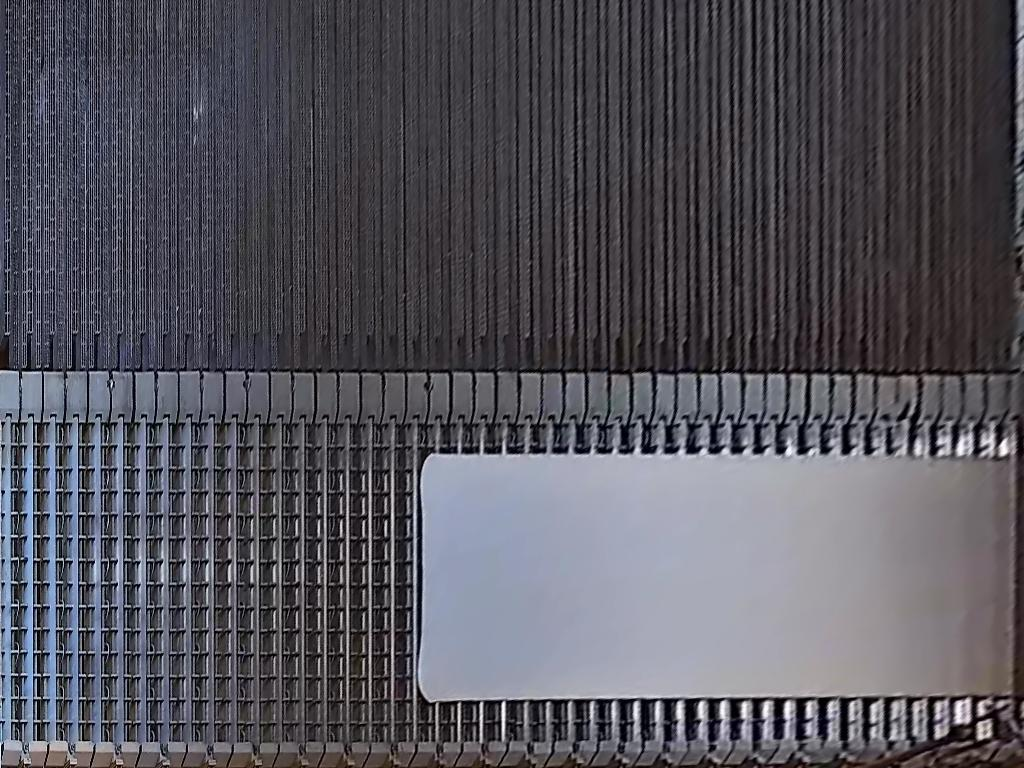steel: (413, 452, 1024, 704)
